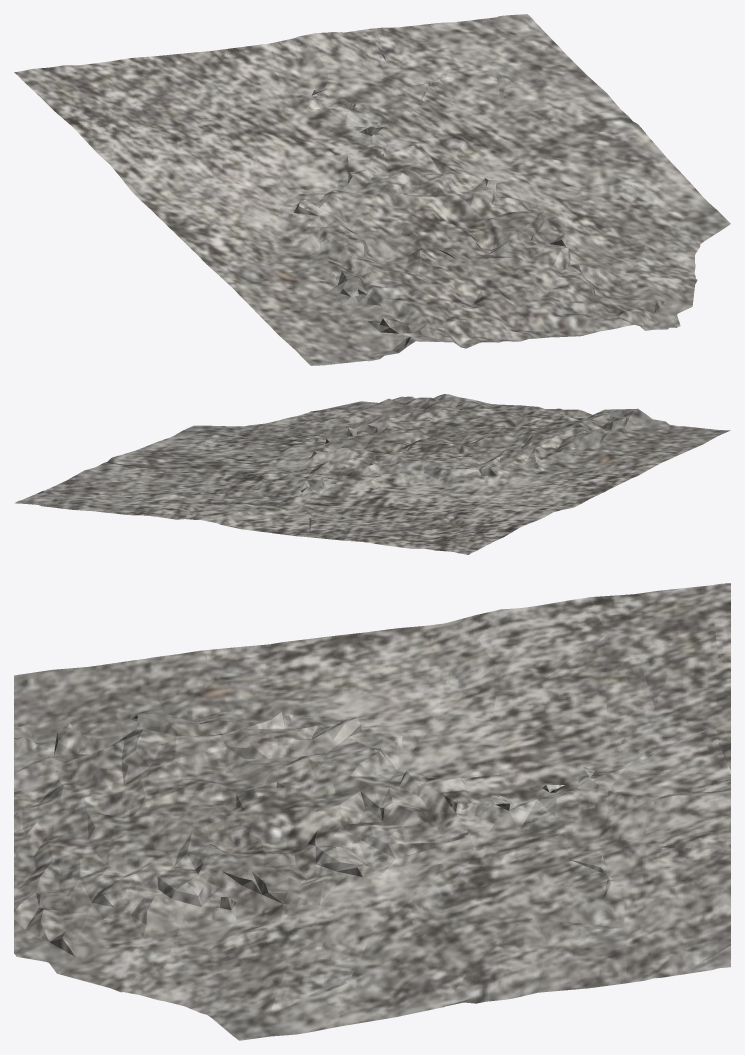
3 renders of one model, top to bottom at view 1: azimuth 30°, elevation 25°; view 2: azimuth 150°, elevation 25°; view 3: azimuth 270°, elevation 25°, orthographic. The views are drawn at different scales.
Bounding box in the file's own units: 0.8374 × 0.1993 × 0.8374.
3 materials, 3 textured.
